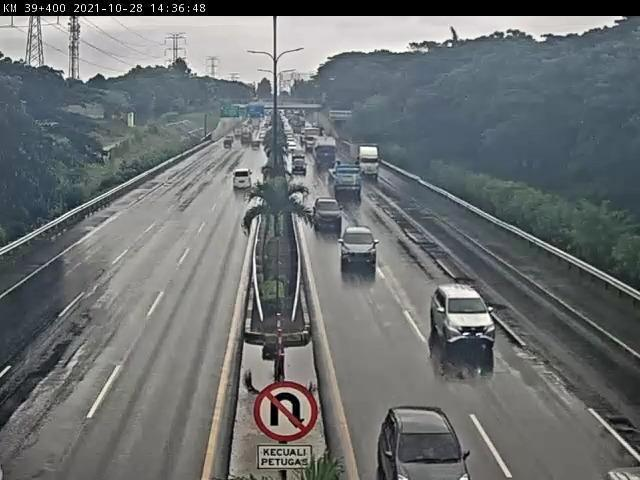car: (381, 402, 474, 480), (429, 288, 501, 356), (338, 225, 385, 274), (327, 166, 363, 205), (314, 196, 340, 232), (237, 169, 267, 194), (290, 157, 309, 173)
truck: (360, 149, 380, 178), (322, 139, 340, 163)
